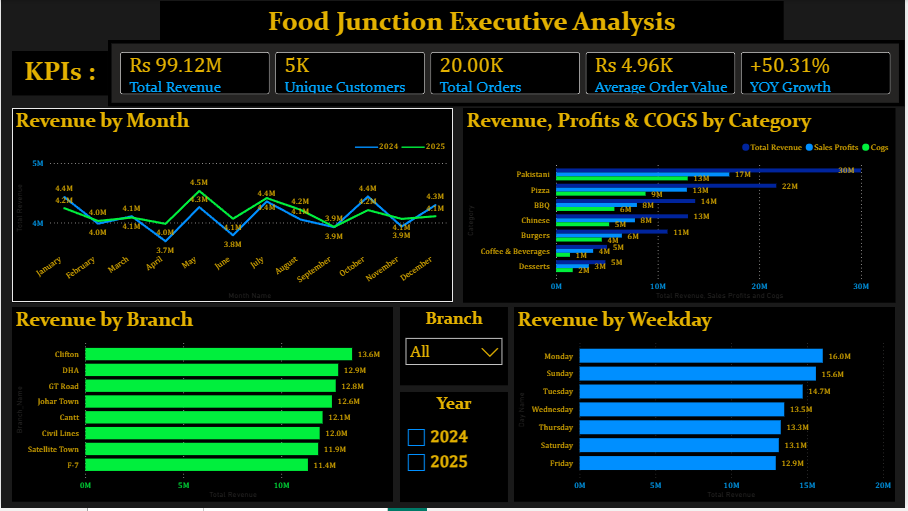

The dashboard page shown, as its layout file describes it:
{"tool":"powerbi","page":{"name":"Dashboard","canvas":[1280,720],"ordinal":0},"visuals":[{"type":"cardVisual","fields":{"Data":["menu_items.Total Revenue","customers.Total Customers","order_details.Total Orders","menu_items.Av order","menu_items.YOY Growth %"]},"box":[151.4,57.1,1128.6,94.3],"z":0},{"type":"textbox","box":[225.7,1.4,884.3,55.7],"z":1000},{"type":"lineChart","title":"Revenue by Month","fields":{"Y":["menu_items.Total Revenue"],"Category":["Date Table.Month Name"],"Series":["Date Table.Year"]},"box":[15.7,152.9,624.3,275.7],"z":2000},{"type":"clusteredBarChart","title":"Revenue, Profits & COGS by Category","fields":{"Category":["menu_items.Category"],"Y":["menu_items.Total Revenue","menu_items.Sales Profits","menu_items.Cogs"]},"box":[654.3,152.9,612.9,275.7],"z":3000},{"type":"textbox","box":[15.7,72.9,135.7,62.9],"z":4000},{"type":"clusteredBarChart","title":"Revenue by Branch","fields":{"Y":["menu_items.Total Revenue"],"Category":["branches.Branch_Name"]},"box":[15.7,435,540,275.7],"z":5000},{"type":"clusteredBarChart","title":"Revenue by Weekday","fields":{"Y":["menu_items.Total Revenue"],"Category":["Date Table.Day Name"]},"box":[727.1,435.1,540,275.7],"z":6000},{"type":"slicer","title":"Branch","fields":{"Values":["branches.Branch_Name"]},"box":[565,435.1,153.1,110.6],"z":7000},{"type":"slicer","title":"Year","fields":{"Values":["Date Table.Year"]},"box":[565.5,555.6,153.1,155.9],"z":8000}]}

Visuals, with their boxes in screenshot pixels (x1, y1, x2, y2), scaled from the page's 1280x720 canvas onto the 908x511 screenshot:
cardVisual - menu_items.Total Revenue x customers.Total Customers: 107, 41, 907, 107
textbox: 160, 1, 787, 41
"Revenue by Month" lineChart: 11, 109, 454, 304
"Revenue, Profits & COGS by Category" clusteredBarChart: 464, 109, 899, 304
textbox: 11, 52, 107, 96
"Revenue by Branch" clusteredBarChart: 11, 309, 394, 504
"Revenue by Weekday" clusteredBarChart: 516, 309, 899, 504
"Branch" slicer: 401, 309, 509, 387
"Year" slicer: 401, 394, 510, 505
